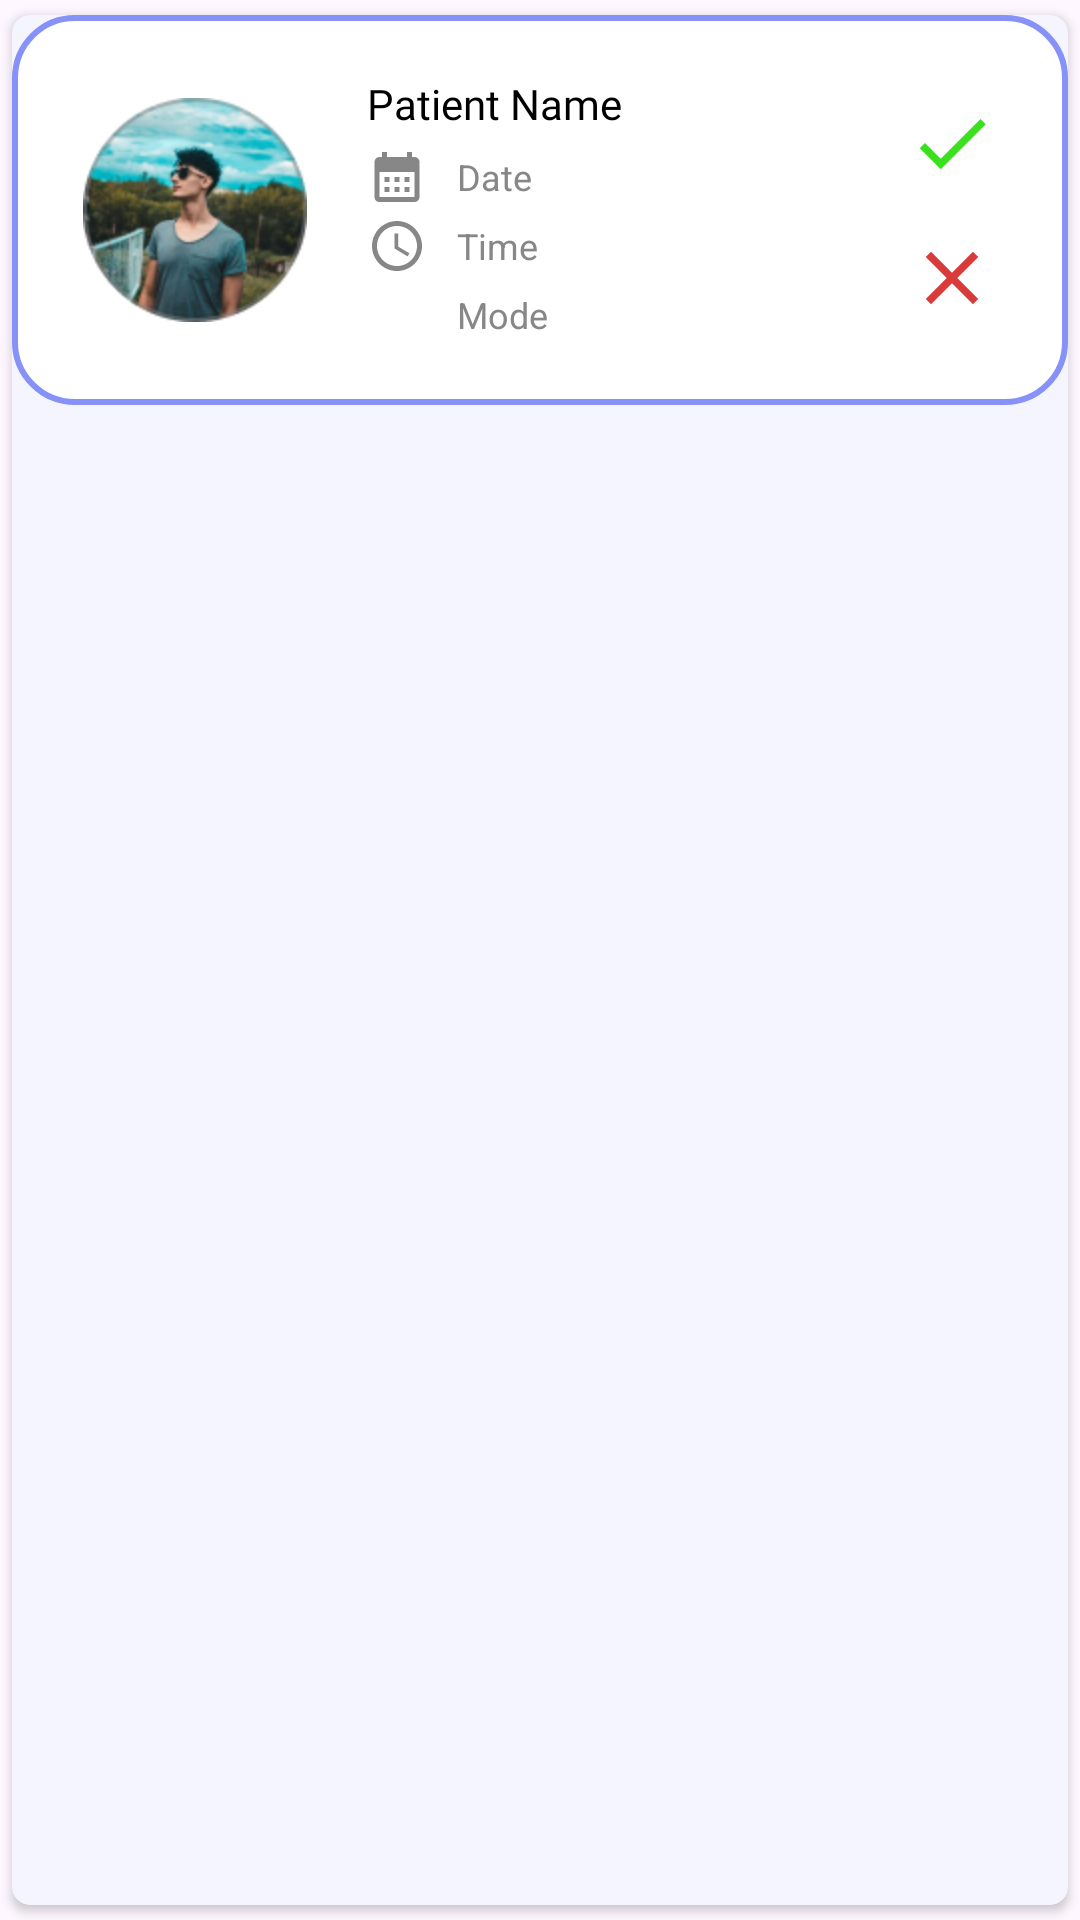

Named icons in this screenshot (1080px x 1920px) and their bounding boxes, (x1, y1, x2, y2):
calendar month muted: (374, 152, 420, 202)
clear: (926, 252, 978, 304)
done: (920, 119, 986, 169)
patient profile: (83, 98, 307, 322)
